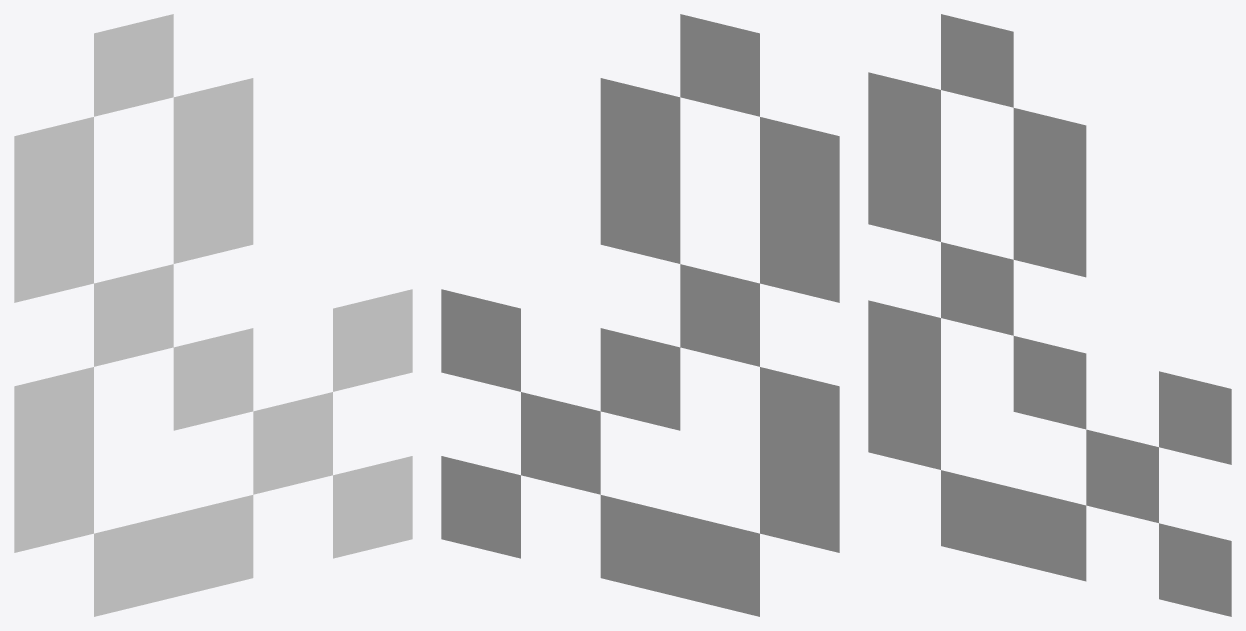
The model's file is chr38_wtf.obj.
3 views of the same model, side by side, from view 1: azimuth 30°, elevation 25°; view 2: azimuth 150°, elevation 25°; view 3: azimuth 330°, elevation 25° (orthographic). The views are drawn at different scales.
Parts seen in each view (by area): view 1: group1; view 2: group1; view 3: group1.
Boxes of the visible parts, bbox=[...] form: group1: bbox=[14, 14, 412, 616]; group1: bbox=[441, 14, 839, 616]; group1: bbox=[868, 14, 1231, 616].
Bounding box in the file's own units: 471 × 660 × 1.2e-05.
